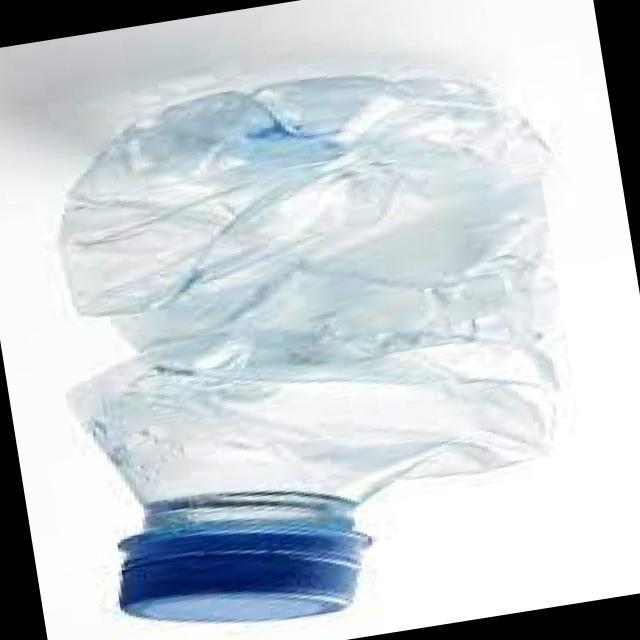defected: (15, 28, 637, 640)
